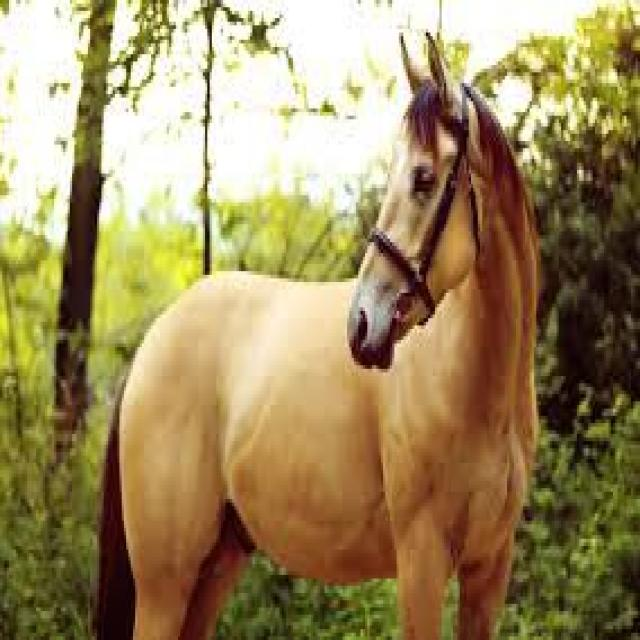Horse: (91, 52, 539, 640)
